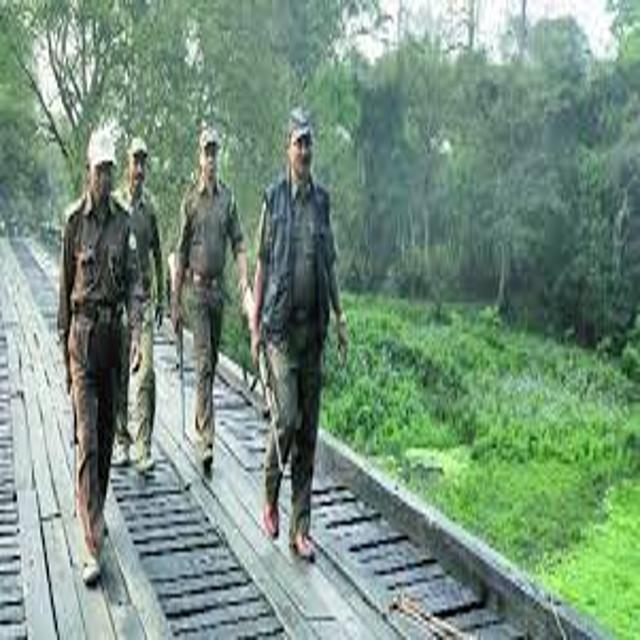gun: (220, 262, 318, 493)
ranger: (206, 81, 384, 580), (10, 90, 182, 605), (136, 101, 290, 504), (79, 100, 182, 537)
